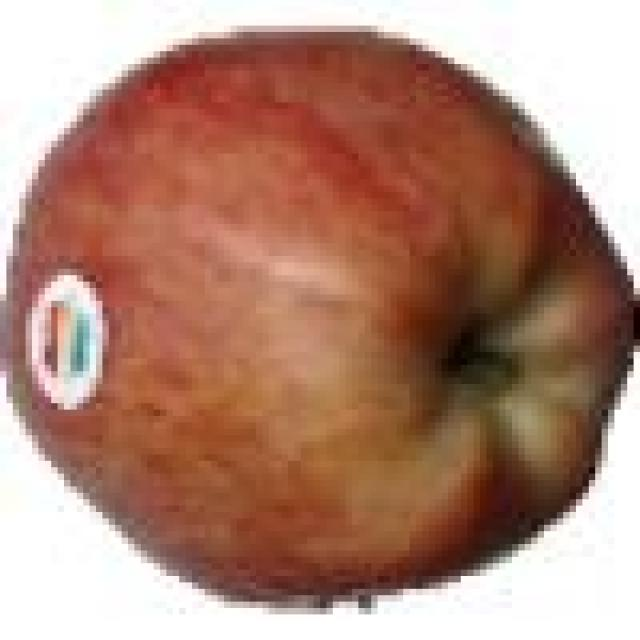Apple: (13, 32, 627, 595)
